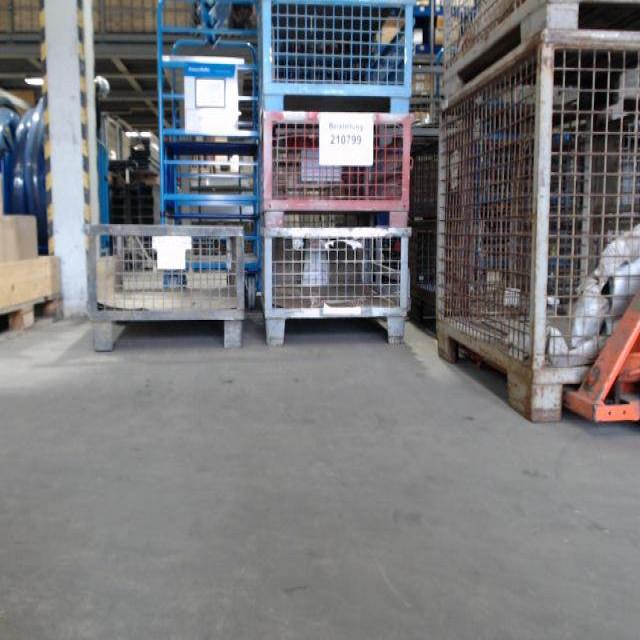pallet: (0, 290, 65, 345)
pallet_truck: (552, 273, 639, 447)
stillage: (435, 27, 638, 424), (436, 0, 640, 114), (81, 219, 250, 353), (263, 221, 417, 350), (256, 105, 419, 224), (256, 2, 420, 116)
